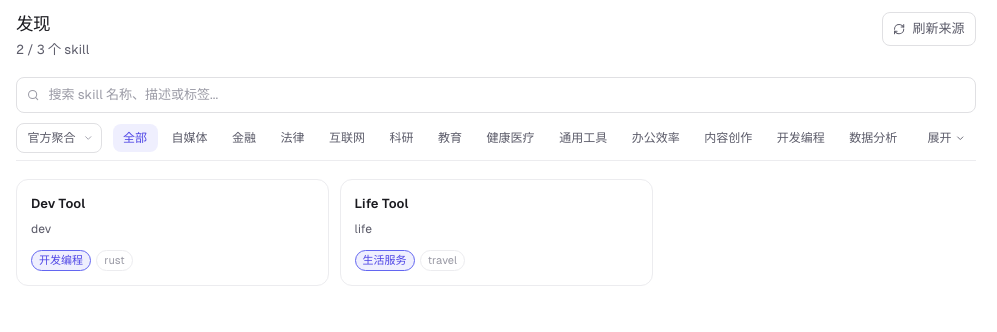
Test: DiscoverPage › filters cards by category tabs while keeping registry as default source
The image size is (997, 332).
Expected: the text "Dev Tool" is shown, [31,194,85,213]
Expected: the dropdown showing "官方聚合" is shown, [16,123,102,153]
Click the button "展开" at point(946, 138), box [917,124,976,152]
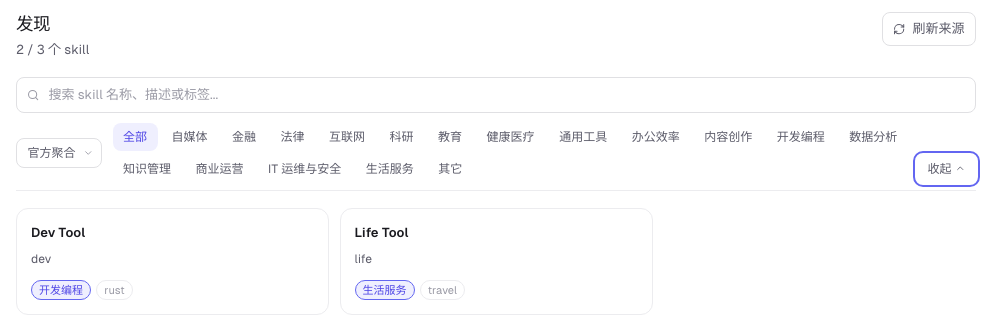
Click the button "生活服务" at point(390, 168), box [355,154,424,182]
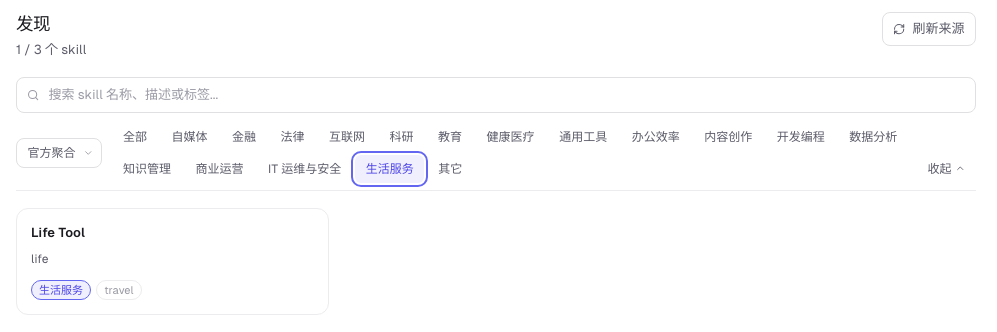
Expected: the text "Life Tool" is shown, [31,223,85,242]
Expected: the button "Dev Tool" is gone
